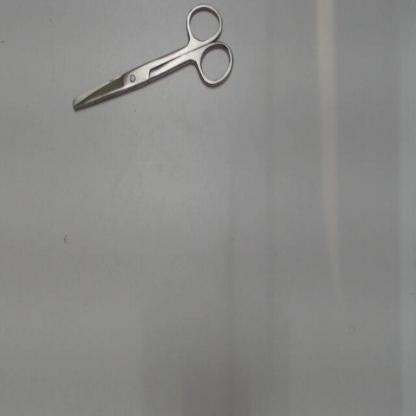Dressing Scissors: (60, 2, 244, 123)
